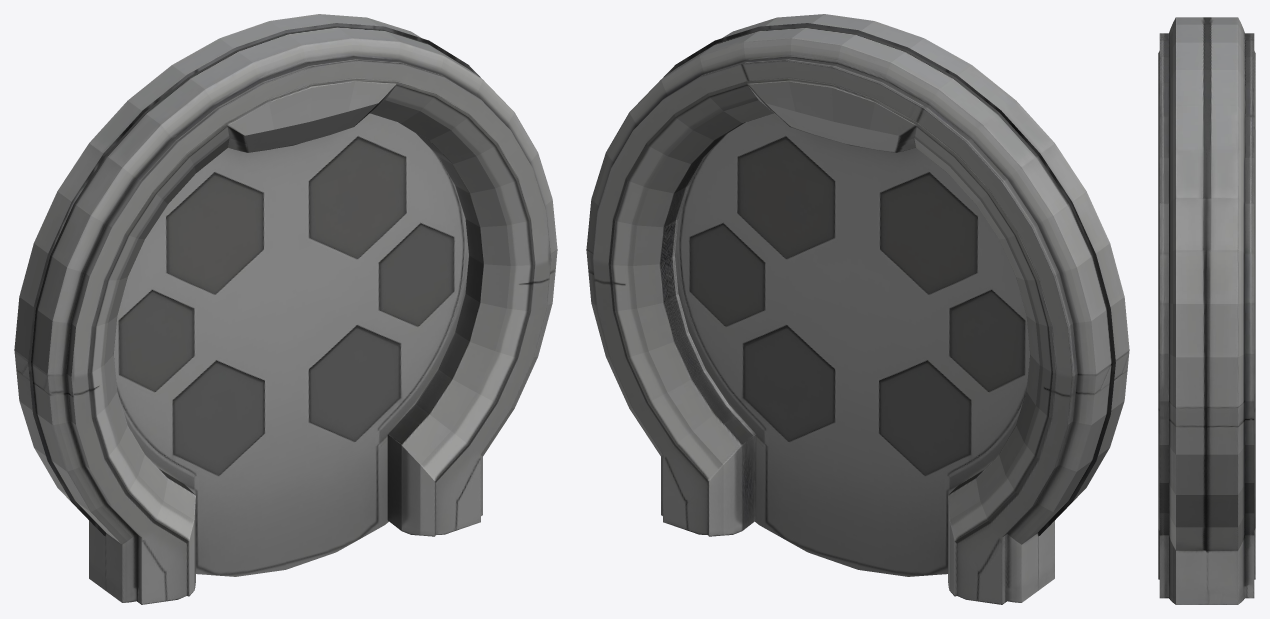
Rendered from Door_RE.fbx.
3 renders of one model, left to right at view 1: azimuth 30°, elevation 25°; view 2: azimuth 150°, elevation 25°; view 3: azimuth 270°, elevation 25°, orthographic. The views are drawn at different scales.
Parts seen in each view (by area): view 1: Circle.001, Circle.002, Circle.003; view 2: Circle.001, Circle.002, Circle.003; view 3: Circle.001.
Part boxes in pixels (bbox=[...]): Circle.001: bbox=[14, 14, 557, 604]; Circle.002: bbox=[286, 23, 480, 569]; Circle.003: bbox=[28, 30, 285, 576]; Circle.001: bbox=[586, 14, 1129, 604]; Circle.002: bbox=[663, 23, 857, 569]; Circle.003: bbox=[858, 30, 1115, 576]; Circle.001: bbox=[1158, 17, 1255, 604].
Size of the model in its own units: 175 by 176 by 30.85.
3 materials, 3 textured.
